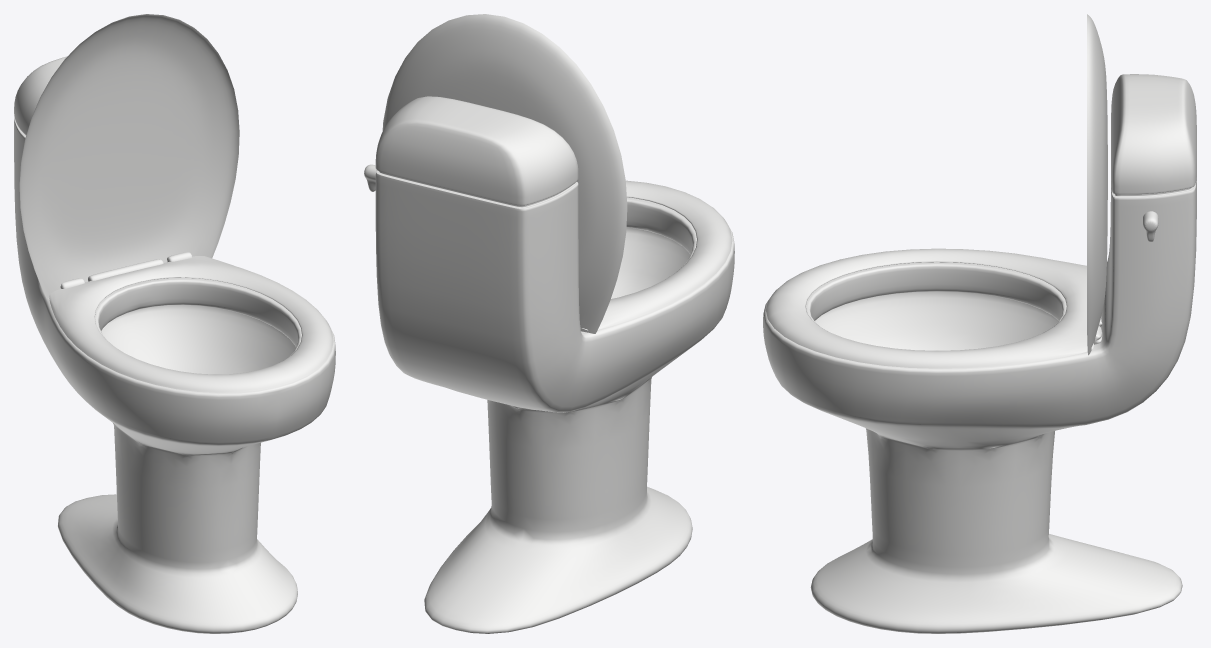
Rendered from toilet.fbx.
The picture shows the model from 3 angles, left to right: view 1: azimuth 30°, elevation 25°; view 2: azimuth 150°, elevation 25°; view 3: azimuth 270°, elevation 25°; orthographic projection. The views are drawn at different scales.
Parts seen in each view (by area): view 1: Cylinder.007; view 2: Cylinder.007; view 3: Cylinder.007.
Part boxes in pixels (<box>): Cylinder.007: <box>14,14,335,633</box>; Cylinder.007: <box>364,14,734,633</box>; Cylinder.007: <box>763,14,1196,633</box>.
Size of the model in its own units: 37.56 by 84.05 by 57.98.
